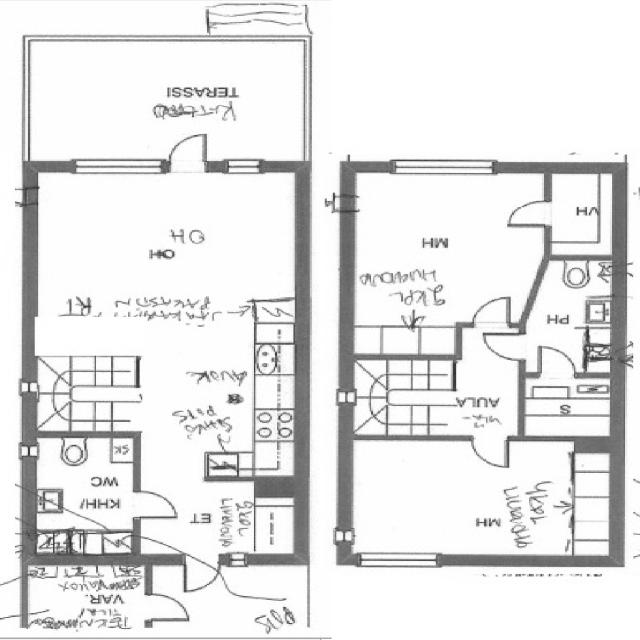door: (165, 129, 214, 178), (123, 488, 187, 524), (477, 327, 533, 365), (138, 591, 194, 624), (501, 197, 556, 230), (466, 293, 516, 329), (467, 434, 513, 471), (181, 556, 222, 596), (220, 562, 260, 600), (533, 344, 575, 378)
window: (381, 153, 503, 180), (64, 152, 170, 180), (351, 547, 449, 572), (220, 156, 267, 177), (334, 526, 355, 548)
zone: (32, 160, 300, 452), (352, 168, 544, 340), (347, 438, 615, 561), (30, 434, 140, 556), (342, 356, 468, 438), (24, 559, 150, 640), (528, 257, 614, 375), (520, 374, 616, 440), (547, 169, 619, 256)
